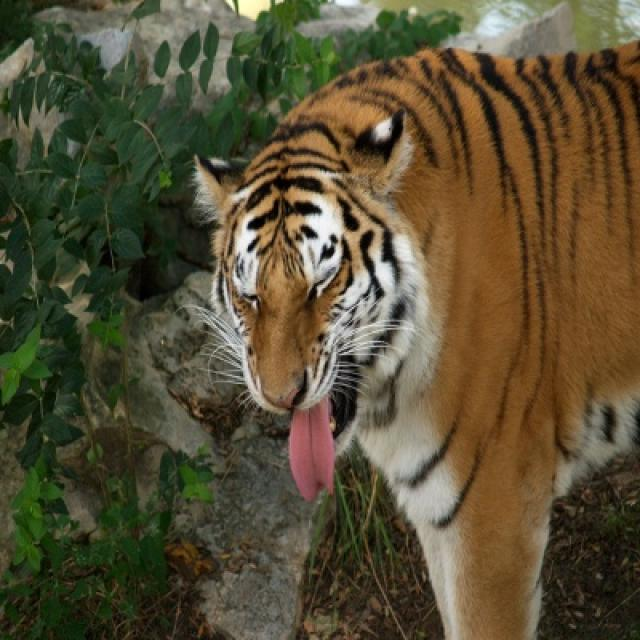Tiger: (197, 38, 638, 638)
